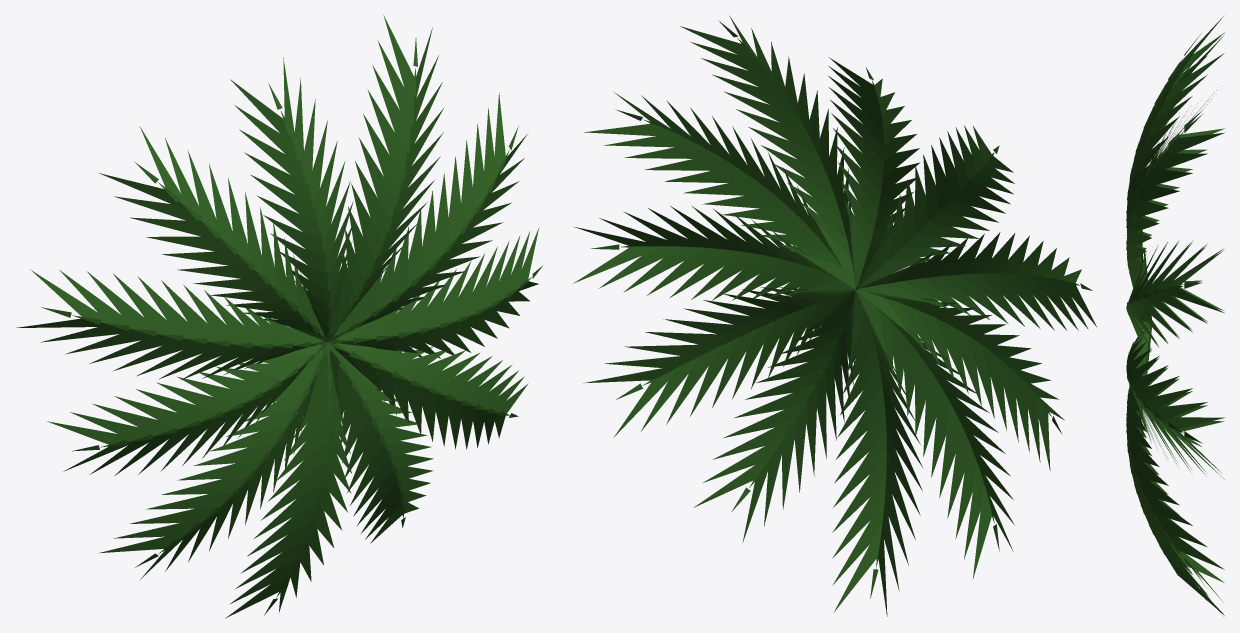
The model's file is fronds.obj.
The picture shows the model from 3 angles, left to right: view 1: azimuth 30°, elevation 25°; view 2: azimuth 150°, elevation 25°; view 3: azimuth 270°, elevation 25°; orthographic projection. The views are drawn at different scales.
Parts seen in each view (by area): view 1: fronds; view 2: fronds; view 3: fronds.
Part boxes in pixels (box(x1,y1,x2,y2)): fronds: box(16, 15, 542, 618); fronds: box(573, 15, 1096, 616); fronds: box(1126, 16, 1224, 616).
Size of the model in its own units: 7.18 by 7.51 by 1.15.
